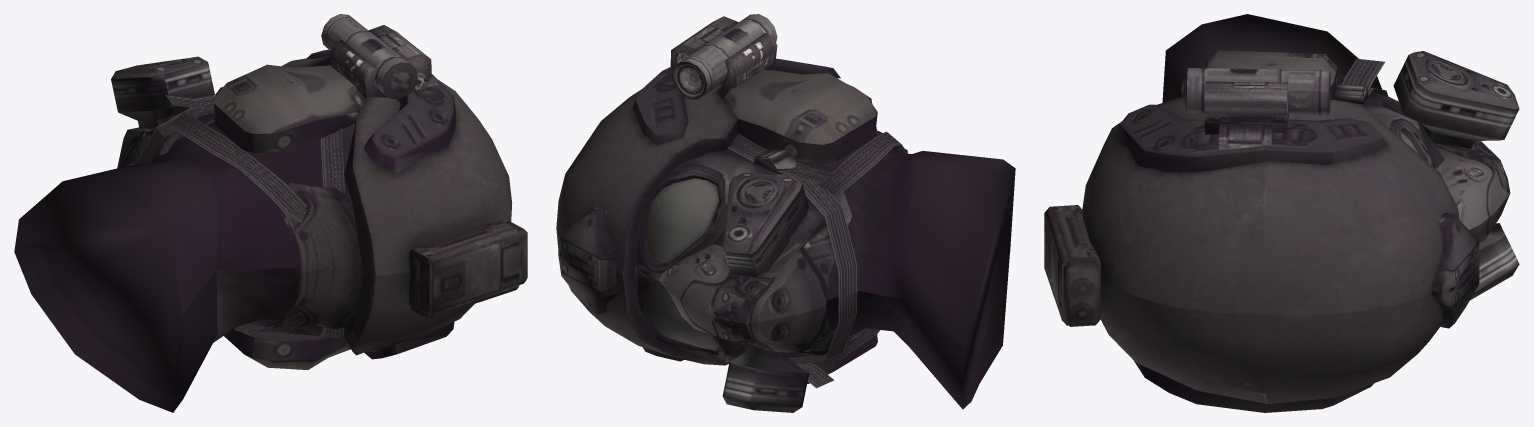
The model's file is M_SArmorHelmet.fbx.
3 views of the same model, side by side, from view 1: azimuth 30°, elevation 25°; view 2: azimuth 150°, elevation 25°; view 3: azimuth 270°, elevation 25° (orthographic). The views are drawn at different scales.
Visible parts, largest first — view 1: 6_headmaterial1_0.5_0.0_0.002; view 2: 6_headmaterial1_0.5_0.0_0.002; view 3: 6_headmaterial1_0.5_0.0_0.002.
Boxes of the visible parts, x1,y1,x2,y2 form: 6_headmaterial1_0.5_0.0_0.002: (14, 14, 527, 412); 6_headmaterial1_0.5_0.0_0.002: (556, 14, 1015, 412); 6_headmaterial1_0.5_0.0_0.002: (1044, 14, 1519, 412).
Size of the model in its own units: 0.2455 by 0.1691 by 0.2198.
